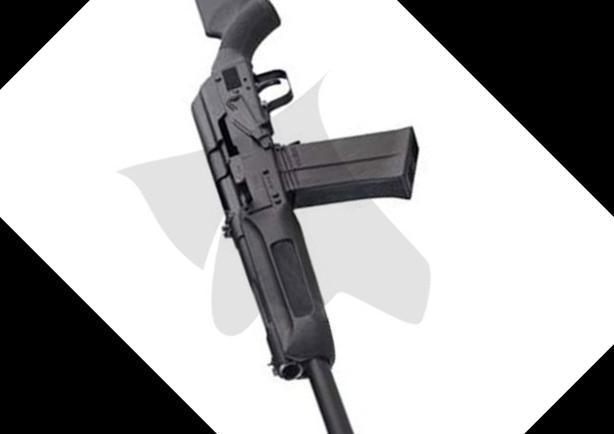larga: (189, 0, 422, 434)
